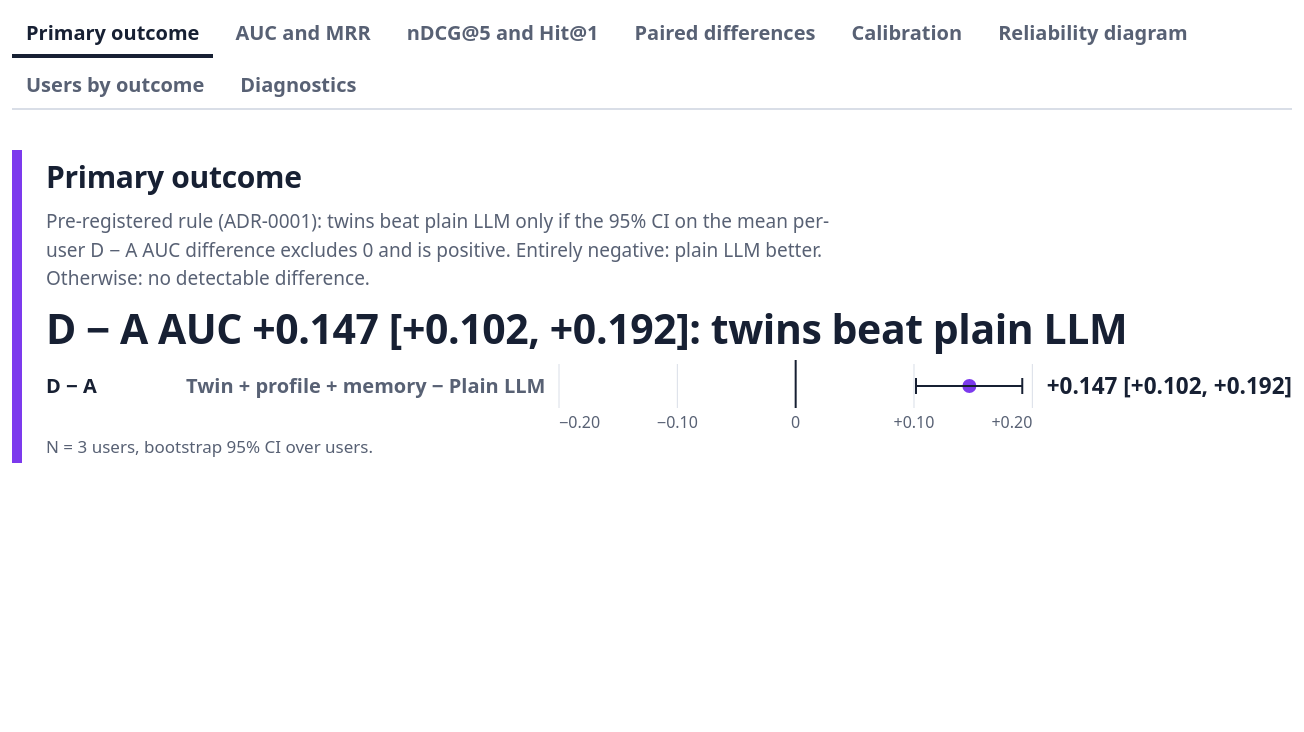
Test: Paged report (presenter mode, #57) › gives the reliability diagram its own page, open, rather than a disclosure
The width and height of the screenshot is (1304, 732).
Click the tab "Calibration".
click(907, 35)  # box [837,12,976,58]
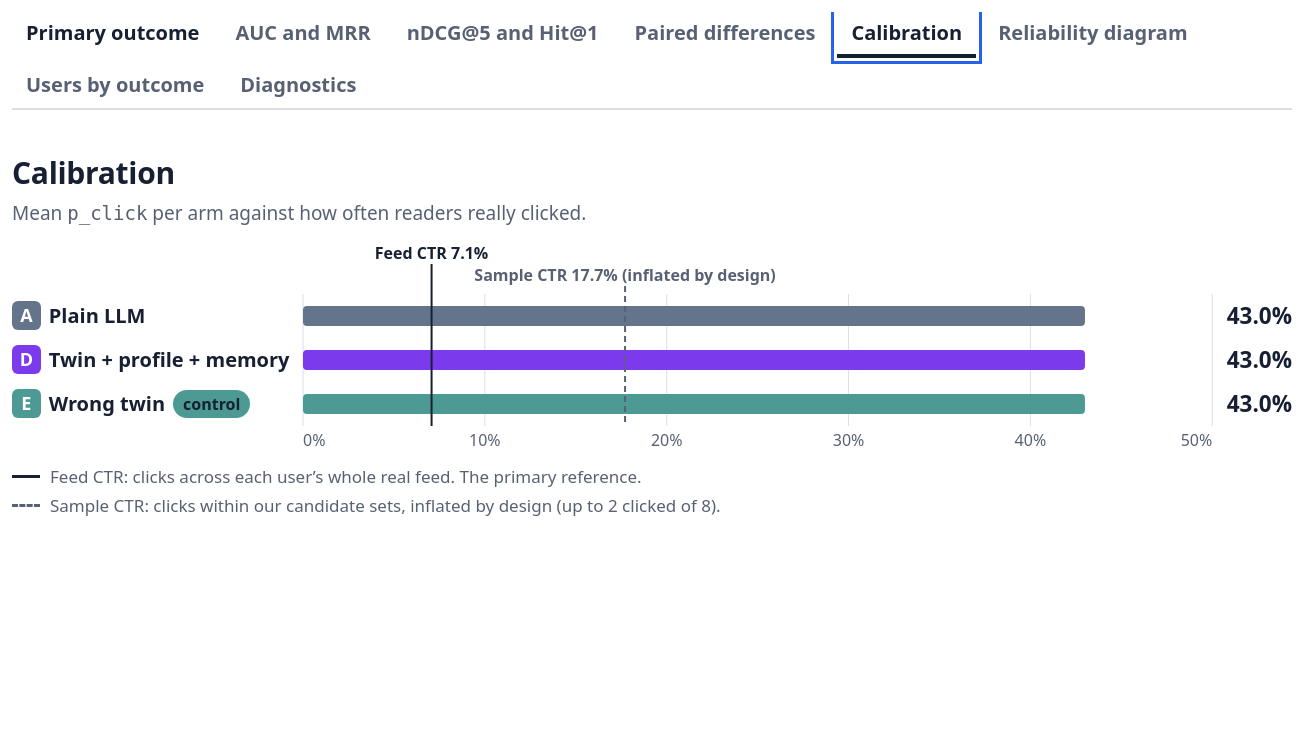
Check: the picture named "mean p_click per arm" is shown, box [303,244,1213,452]
Click the tab "Reliability diagram".
click(1093, 35)  # box [984,12,1202,58]
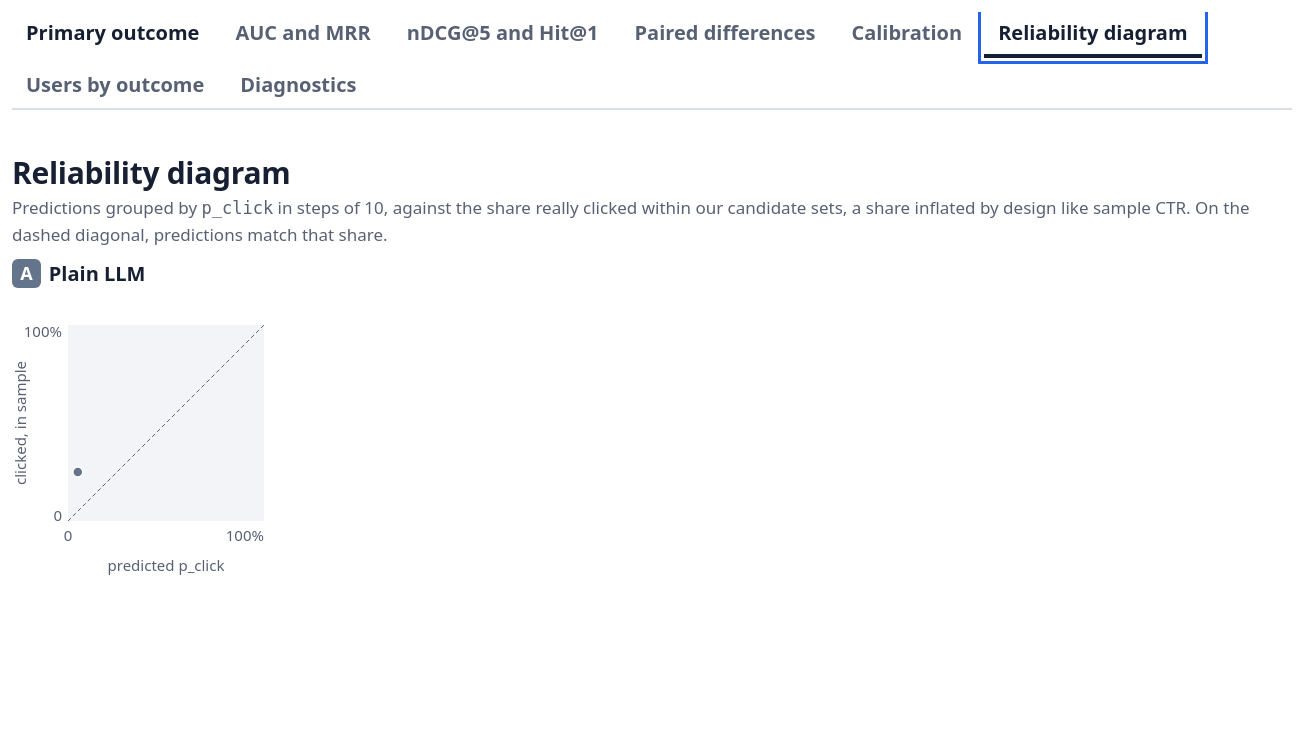
Check: the picture named "arm a reliability" is shown, box [12,315,272,577]
Check: the text "on the dashed diagonal, predictions match that share" is shown, box [12,196,1250,246]
